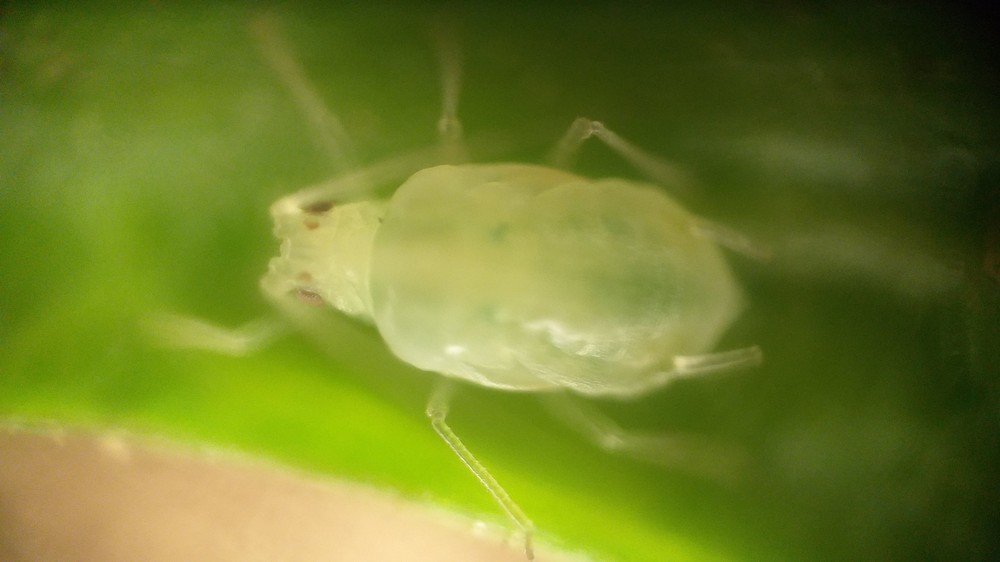Pulgon: (153, 9, 866, 546)
